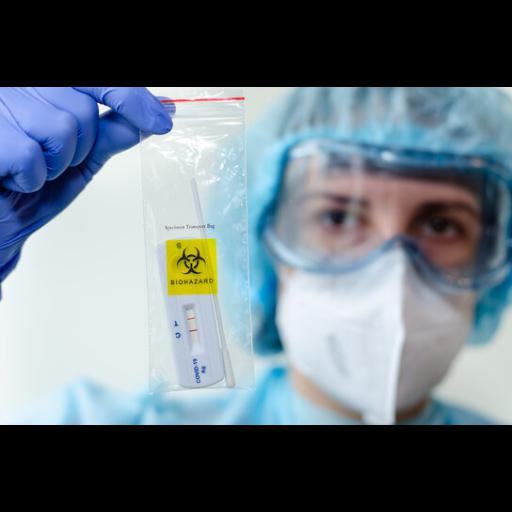Pos: (155, 236, 227, 388)
